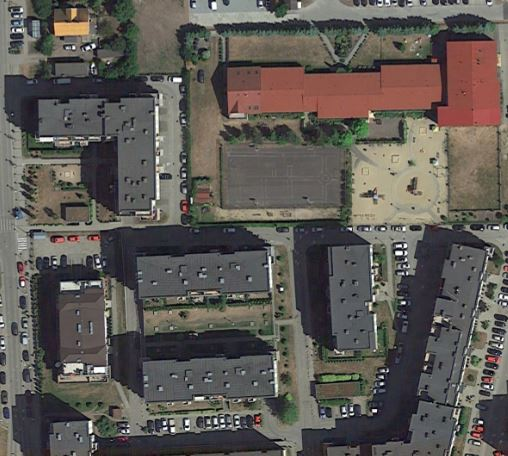block of flats: (216, 40, 502, 139), (396, 240, 495, 455), (32, 87, 167, 225), (137, 346, 285, 411), (129, 246, 279, 297), (318, 240, 383, 357), (50, 274, 115, 384)
